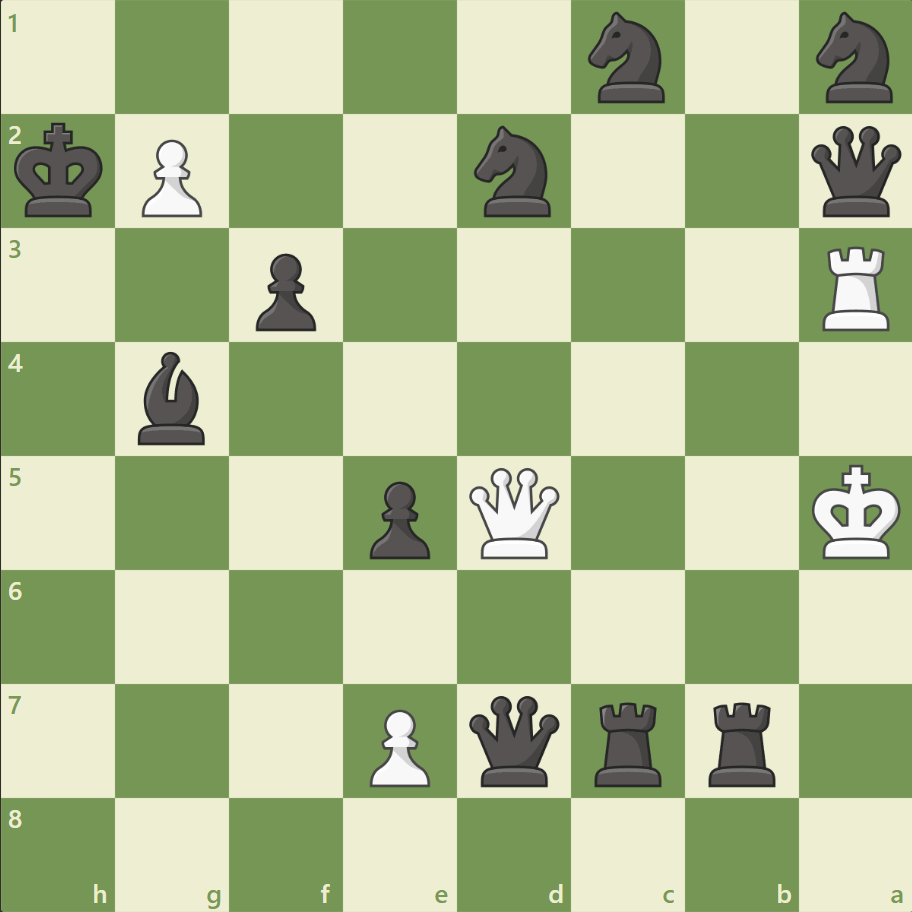K: (806, 458, 906, 566)
P: (133, 132, 208, 223), (361, 700, 435, 791)
Q: (464, 463, 563, 562)
R: (814, 239, 897, 336)
b: (131, 347, 215, 449)
k: (11, 117, 111, 225)
n: (806, 7, 903, 110), (579, 7, 676, 110), (465, 121, 562, 223)
p: (247, 246, 322, 337), (361, 473, 435, 564)
q: (805, 122, 904, 222), (464, 690, 563, 789)
r: (700, 693, 783, 790), (587, 693, 670, 790)
